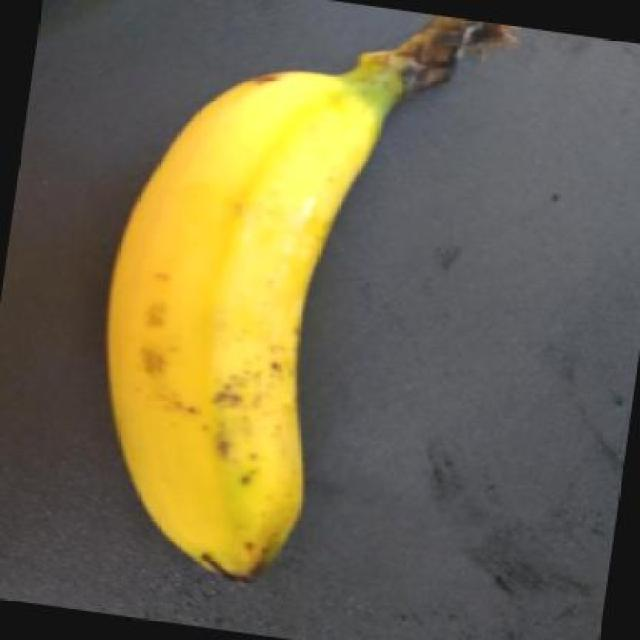Ripe: (91, 3, 486, 595)
